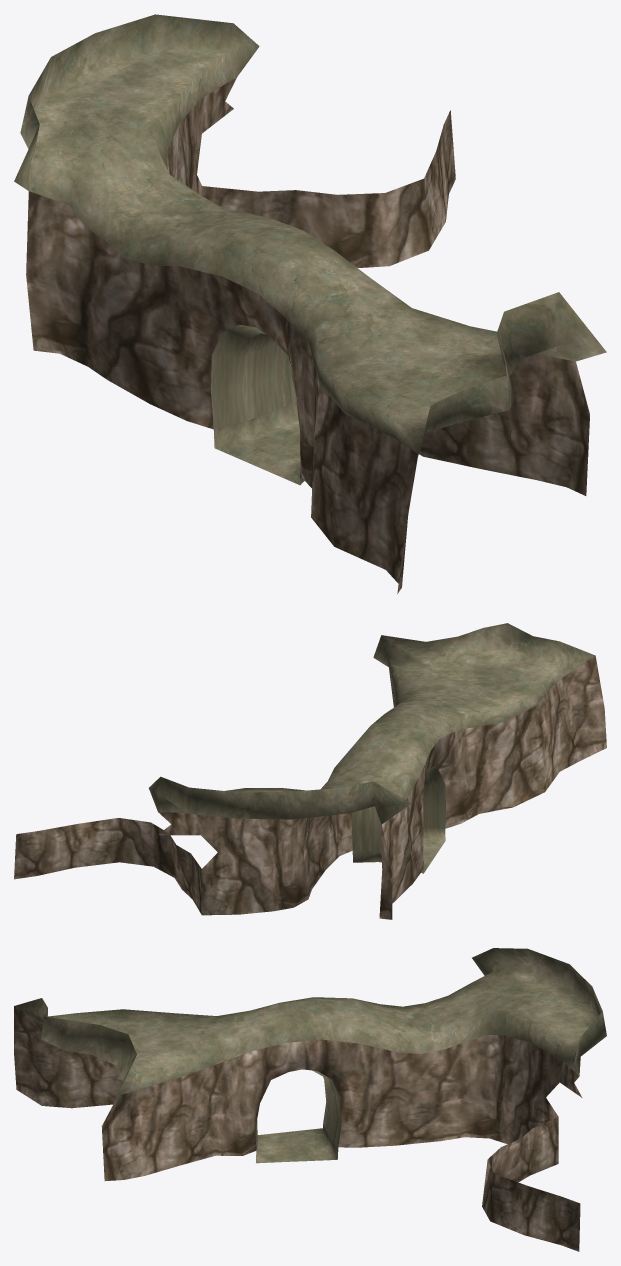
Rendered from EKH_CAVERNS_PS_CA_LAND_BRIDGE_3837__GX.fbx.
3 views of the same model, one above another, from view 1: azimuth 30°, elevation 25°; view 2: azimuth 150°, elevation 25°; view 3: azimuth 270°, elevation 25° (orthographic). The views are drawn at different scales.
Visible parts, largest first — view 1: EKH_CAVERNS_PS_CA_LAND_BRIDGE_3837__GX; view 2: EKH_CAVERNS_PS_CA_LAND_BRIDGE_3837__GX; view 3: EKH_CAVERNS_PS_CA_LAND_BRIDGE_3837__GX.
Part boxes in pixels (x1,y1,x2,y2): EKH_CAVERNS_PS_CA_LAND_BRIDGE_3837__GX: (14, 14, 606, 593); EKH_CAVERNS_PS_CA_LAND_BRIDGE_3837__GX: (14, 623, 606, 919); EKH_CAVERNS_PS_CA_LAND_BRIDGE_3837__GX: (14, 948, 606, 1251).
Bounding box in the file's own units: 130638 × 60578 × 191611.
2 materials, 2 textured.
